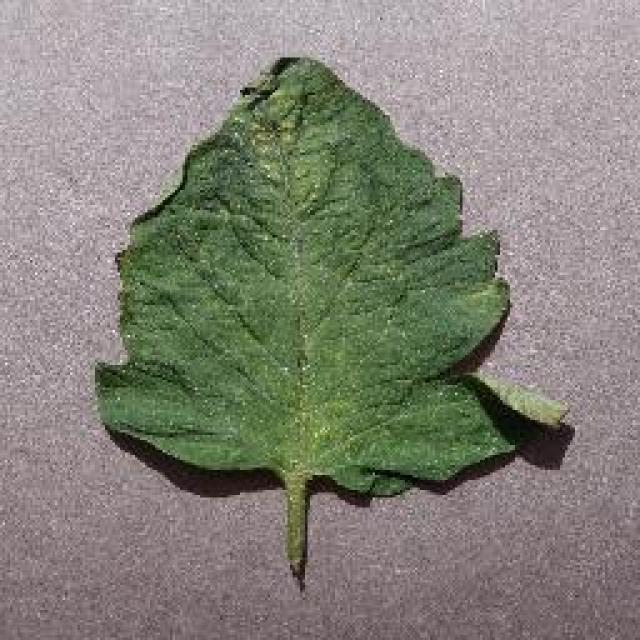Tomato mosaic virus leaf: (96, 57, 569, 495)
